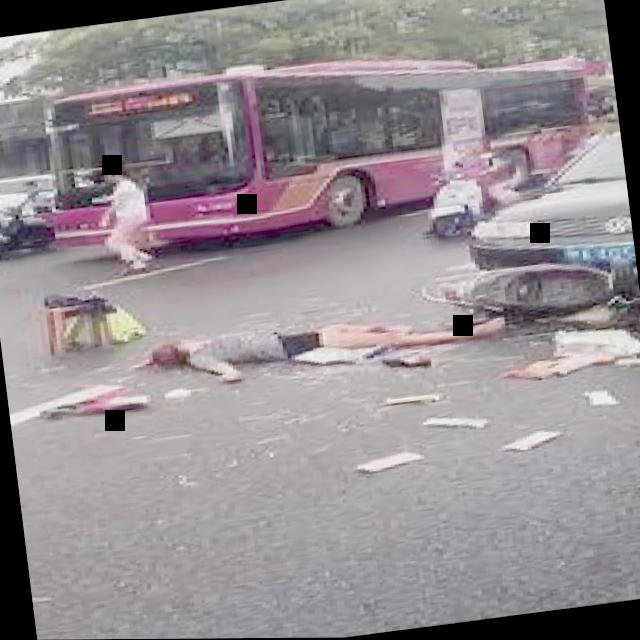Fall-Detected: (99, 270, 542, 406)
